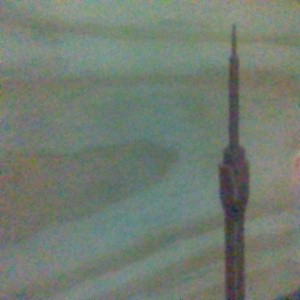solder: (217, 24, 251, 300)
